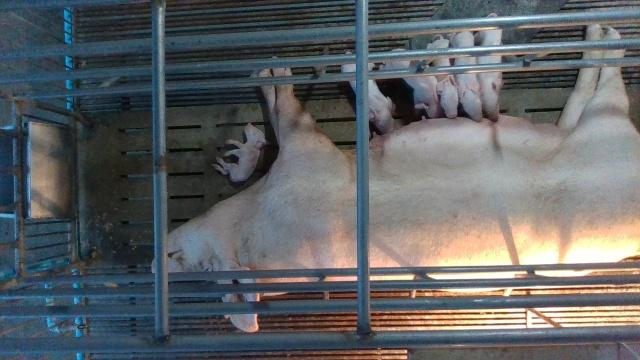piglet: (378, 48, 445, 119), (342, 49, 396, 134), (212, 122, 270, 182), (450, 31, 483, 122), (474, 13, 501, 122), (427, 34, 459, 118)
sow-sleep-lactate: (152, 25, 640, 331)
